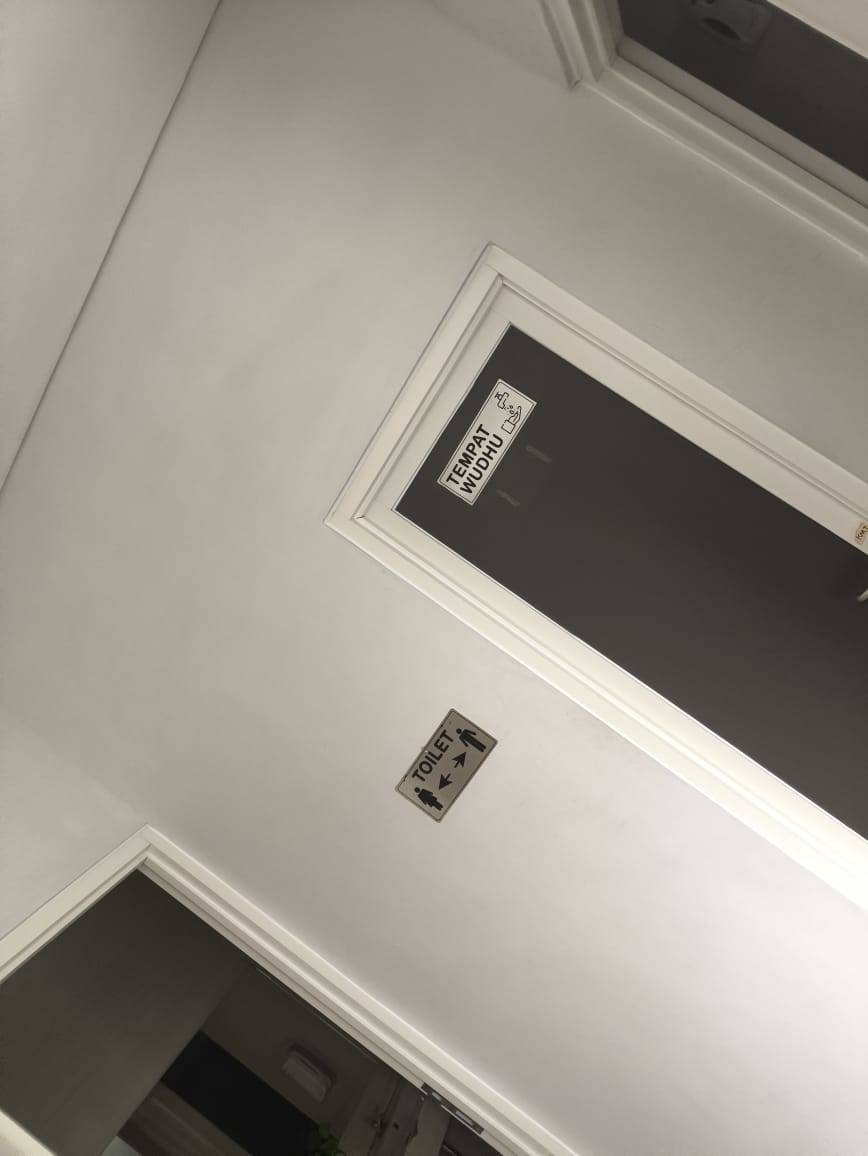tempat wudhu: (431, 369, 546, 510)
toilet: (379, 697, 510, 832)
